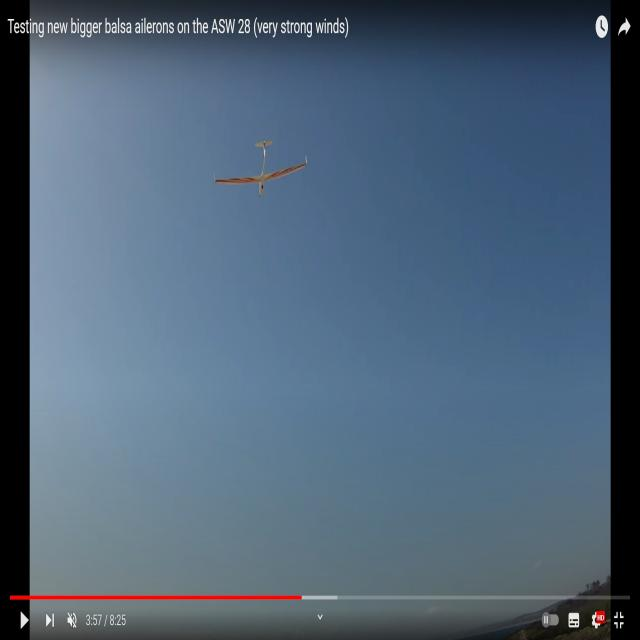iha: (243, 141, 274, 195)
